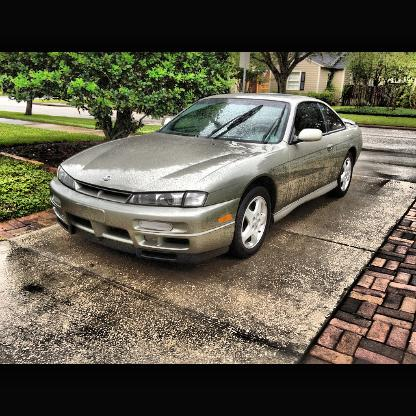Nissan 240SX Coupe 1998: (46, 96, 364, 269)
